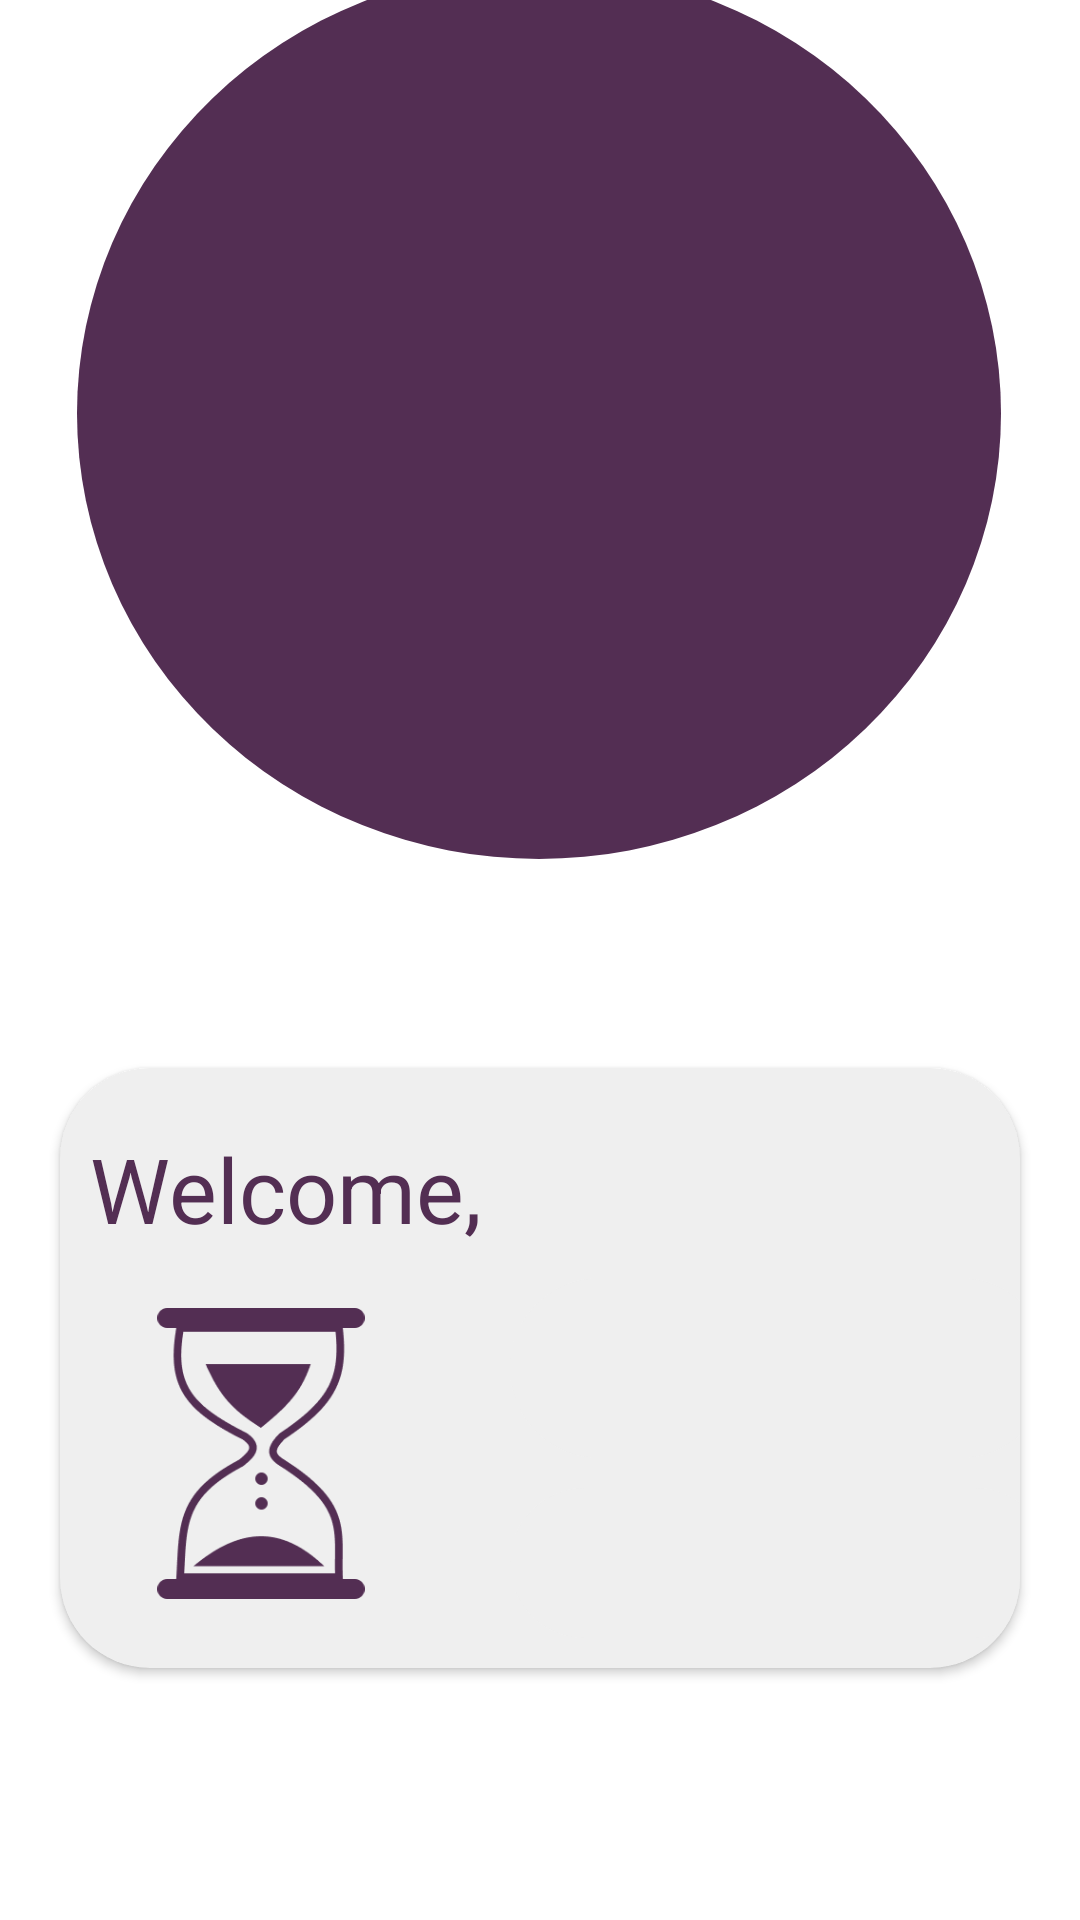

Where to tap for icons on this 1080×1920 app screen, as point (x, y):
hourglassnew: point (261, 1453)
